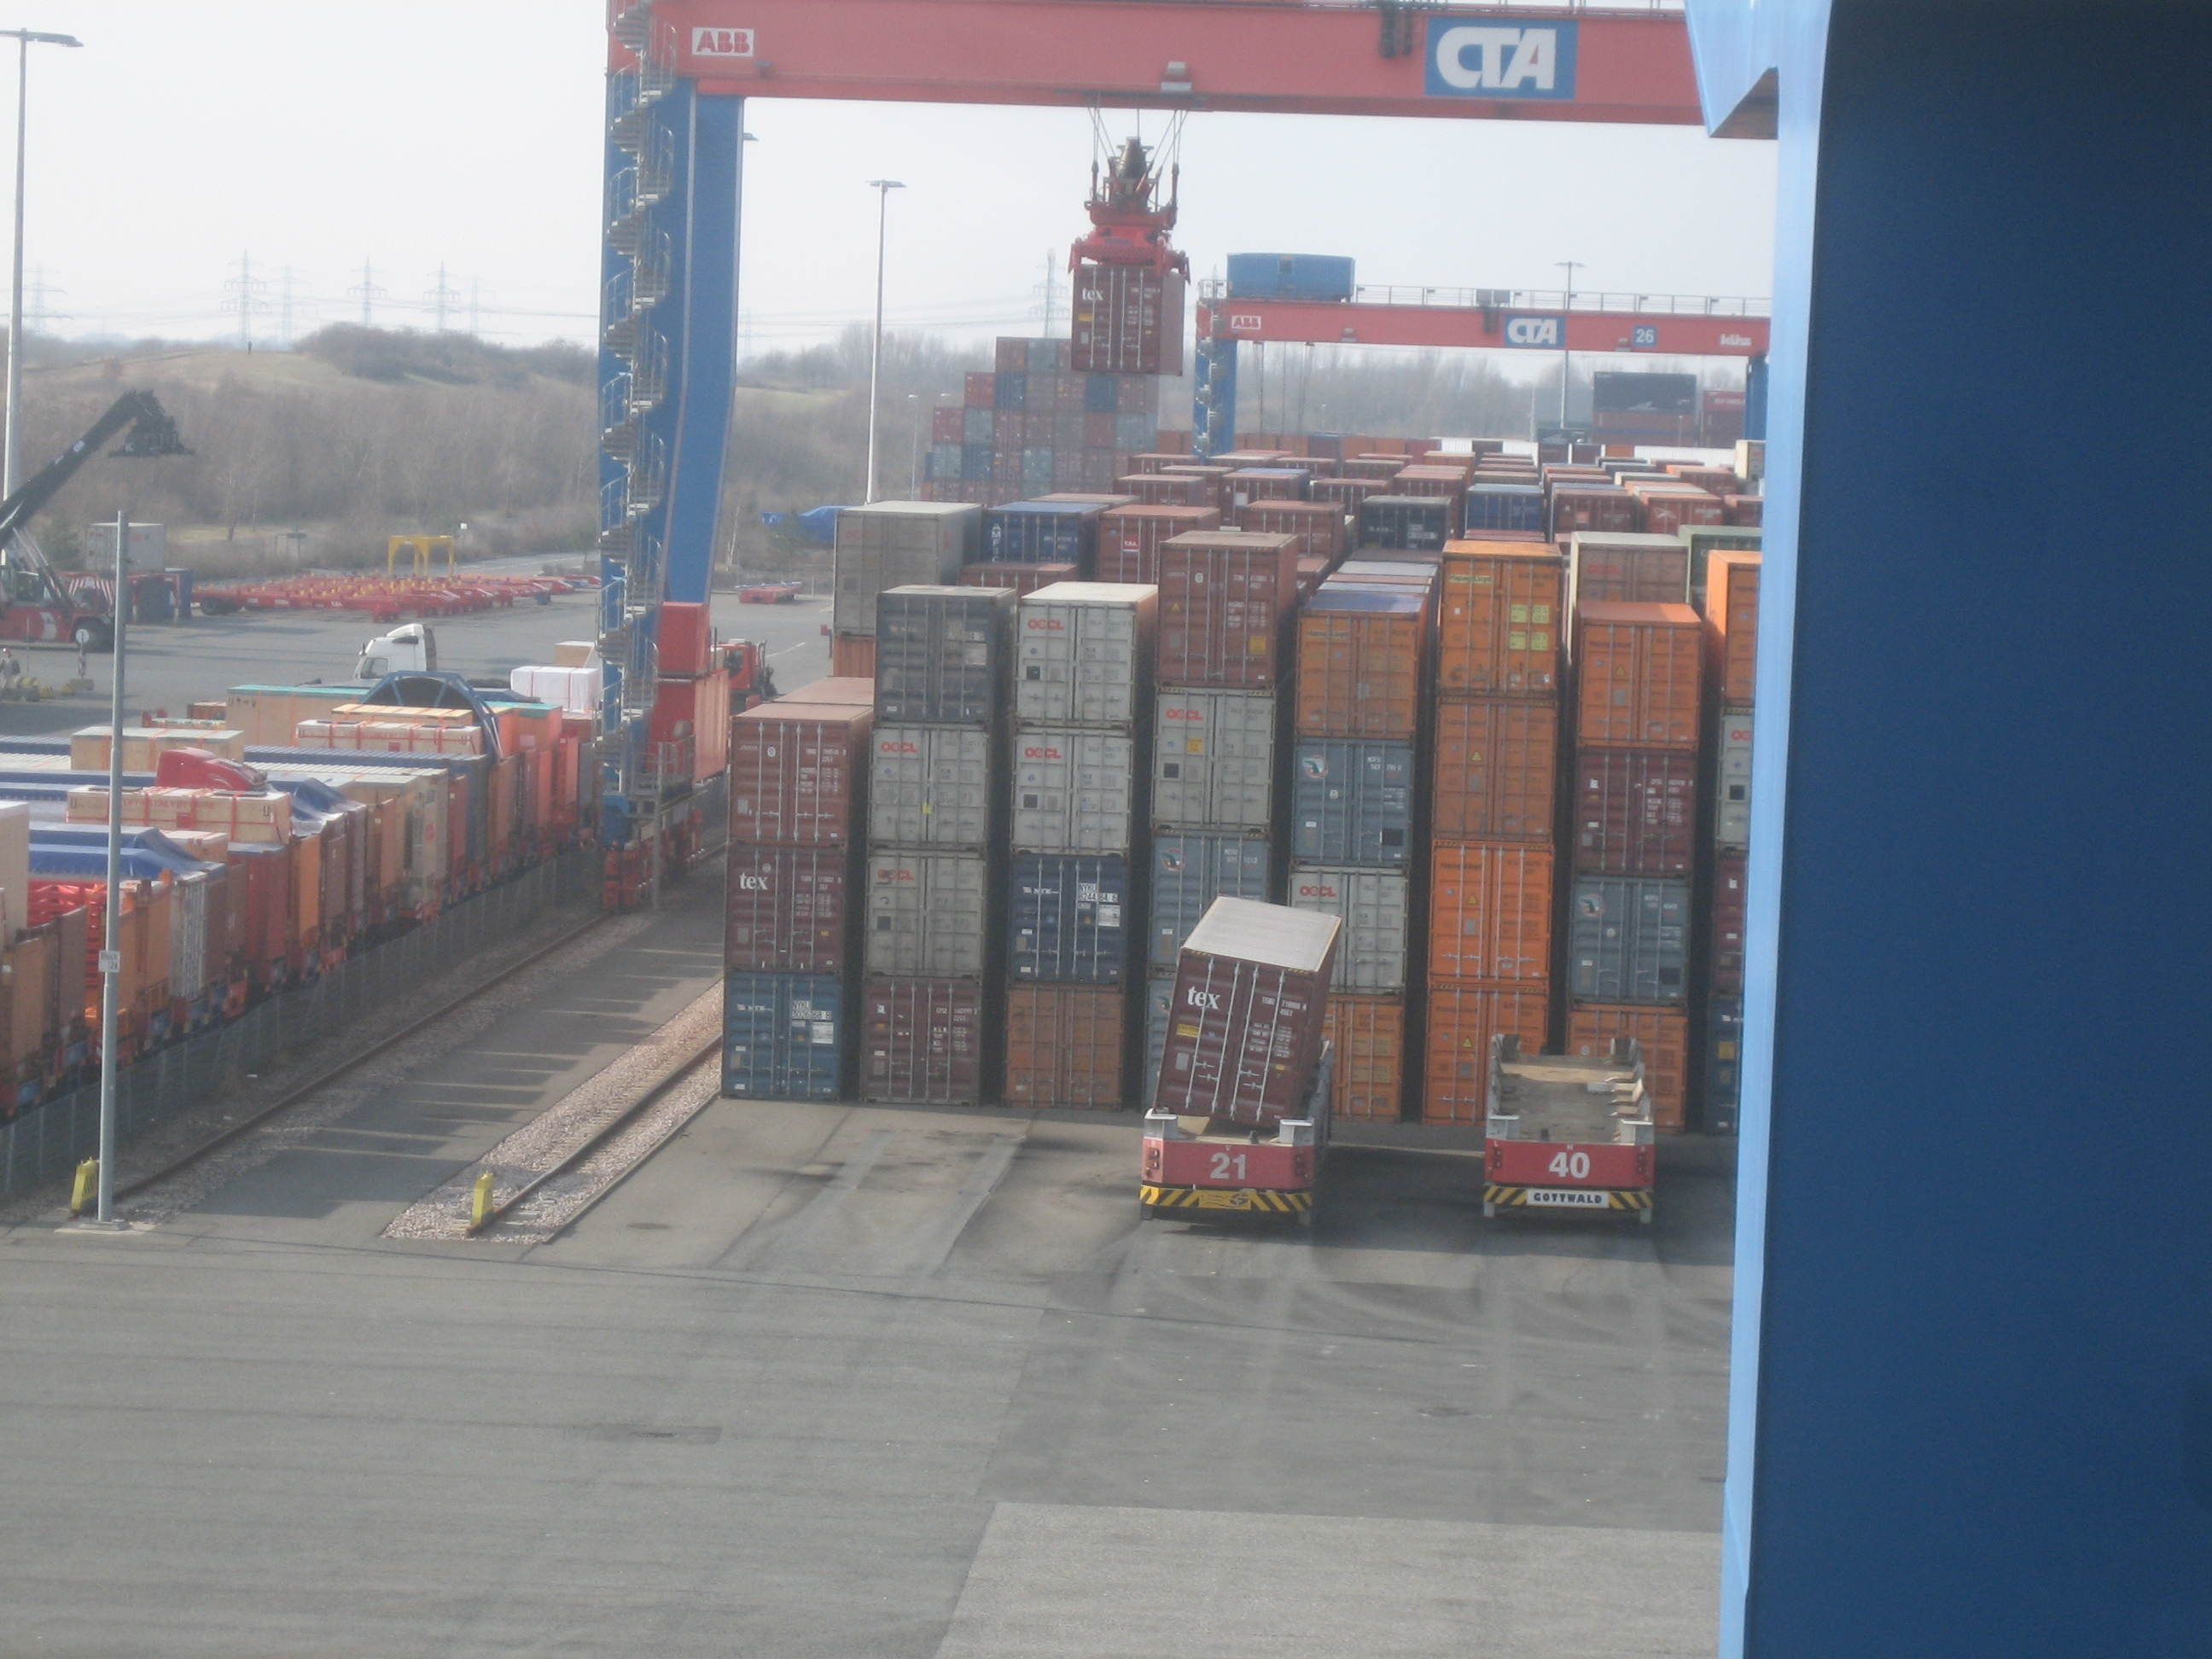container_door: (1153, 540, 1278, 683), (1148, 685, 1273, 828), (1442, 552, 1568, 695), (1575, 608, 1700, 749), (1576, 734, 1702, 875), (1289, 605, 1413, 748), (1291, 728, 1414, 871), (1425, 843, 1548, 986), (1008, 993, 1132, 1134), (1174, 981, 1298, 1122), (1430, 694, 1554, 835), (1562, 871, 1686, 1012), (733, 711, 855, 847), (885, 589, 1007, 725), (728, 838, 850, 974), (857, 849, 979, 985), (850, 978, 972, 1114), (867, 716, 988, 852), (1012, 598, 1132, 734), (1001, 854, 1122, 990), (1012, 723, 1132, 857), (718, 976, 838, 1110)
